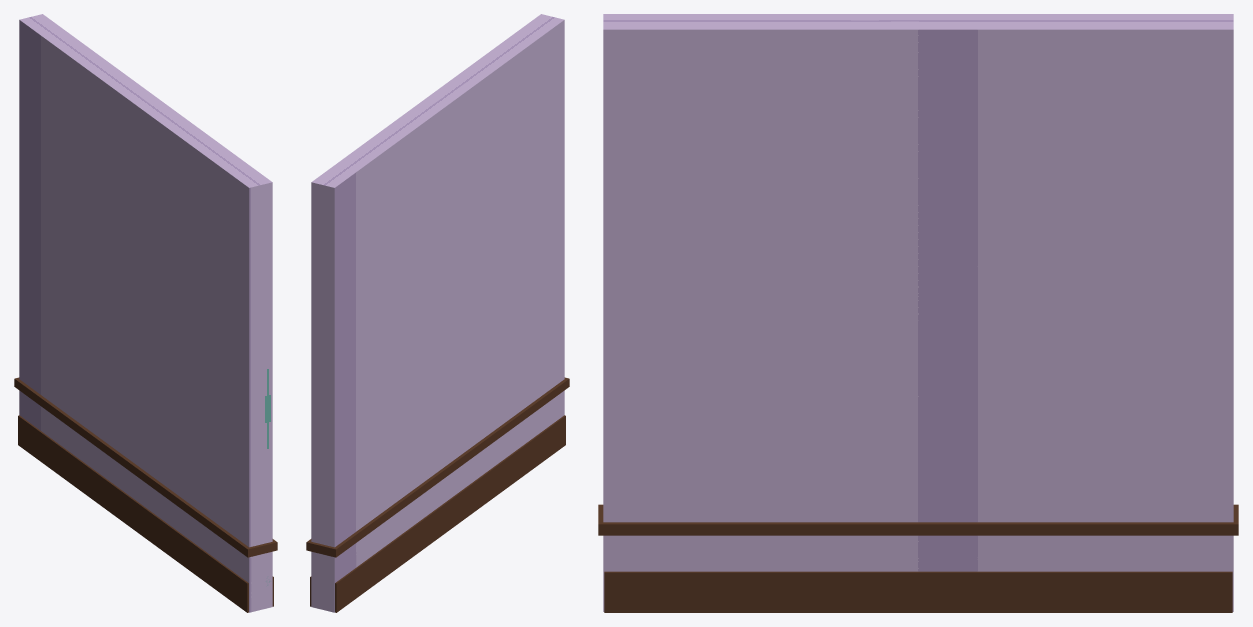
The model's file is bath_east.glb.
3 views of the same model, side by side, from view 1: azimuth 30°, elevation 25°; view 2: azimuth 150°, elevation 25°; view 3: azimuth 270°, elevation 25° (orthographic). The views are drawn at different scales.
Visible parts, largest first — view 1: Box1, Box2, Box3, Box4; view 2: Box1, Box2, Box3, Box4; view 3: Box1, Box2, Box4.
Boxes of the visible parts, left/top/right/bottom form: Box1: left=19, top=14, right=272, bottom=612; Box2: left=18, top=415, right=273, bottom=612; Box3: left=19, top=391, right=272, bottom=611; Box4: left=14, top=377, right=277, bottom=557; Box1: left=311, top=14, right=564, bottom=612; Box2: left=310, top=415, right=565, bottom=612; Box3: left=311, top=391, right=564, bottom=612; Box4: left=306, top=377, right=569, bottom=557; Box1: left=603, top=14, right=1233, bottom=611; Box2: left=604, top=571, right=1232, bottom=612; Box4: left=598, top=504, right=1238, bottom=535.
Bounding box in the file's own units: 0.19 × 2.6 × 2.59.
Materials: 2 (1 with a texture image).
